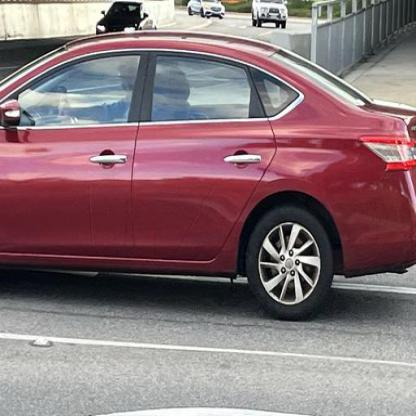Tire: (244, 204, 334, 320)
